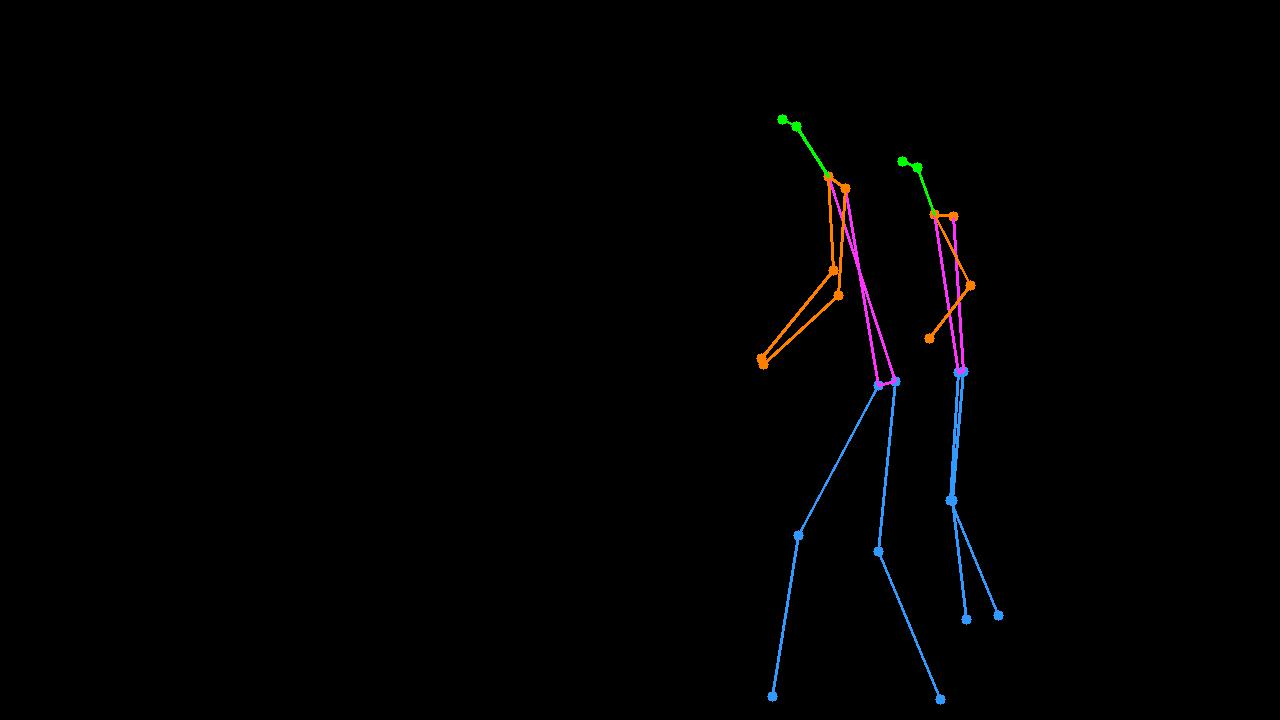normal: (719, 87, 954, 718)
